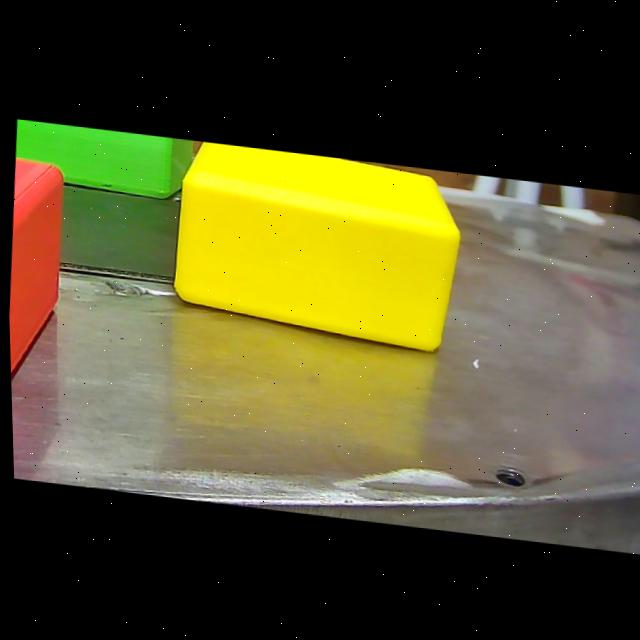greenBox: (12, 119, 200, 204)
redBox: (3, 142, 74, 402)
yellowBox: (161, 135, 473, 364)
